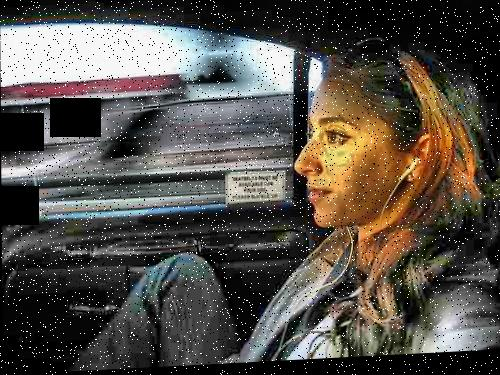seatbelt: (289, 239, 367, 325)
